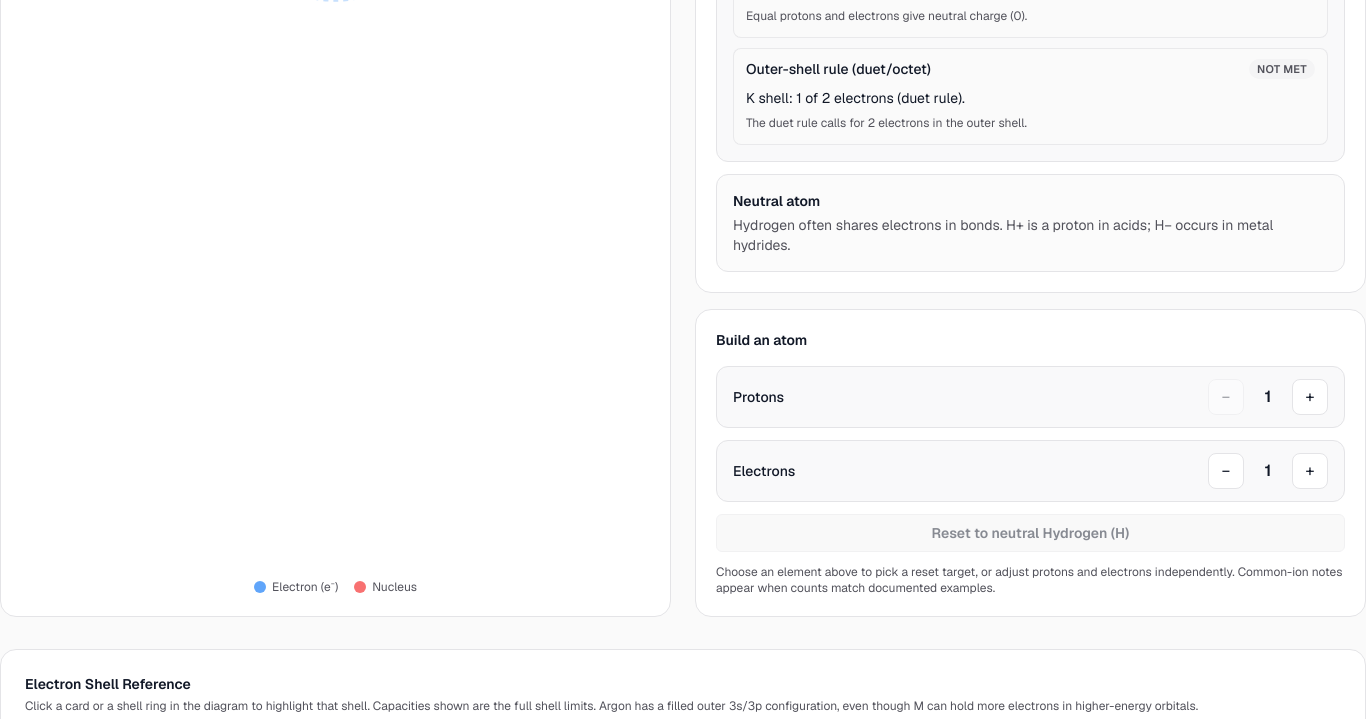
Test: Bohr atom builder › updates nucleus labels when proton count changes
This screenshot has width=1366, height=719.
(page scrolled)
What coordinates should you click on to do the following:
click the button named "Add a proton"
I would click on:
 (1310, 396)
Its box is [1292, 378, 1328, 414].
(page scrolled)
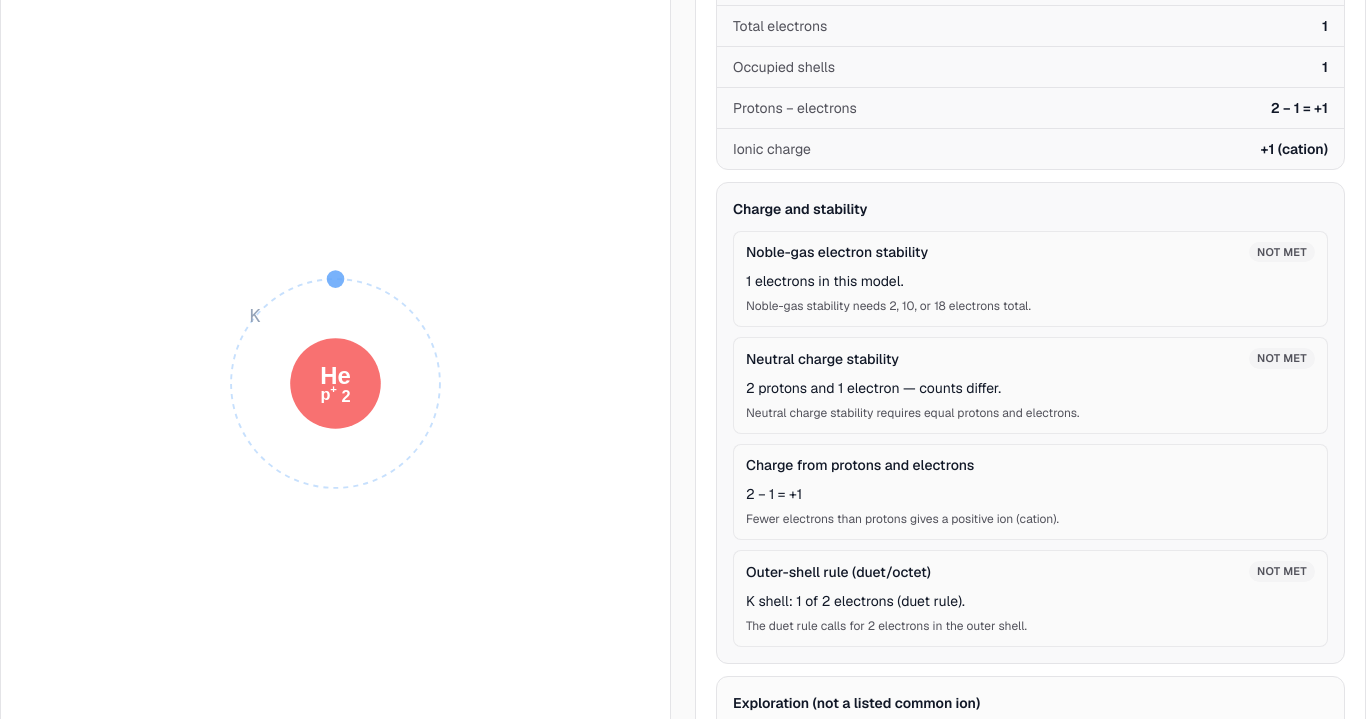
Expected: the text "He" is shown, [320, 362, 351, 389]
Now the picture named "nucleus shows p+ 2, 2 protons, 1 electron" is shown, box [21, 69, 650, 698]
